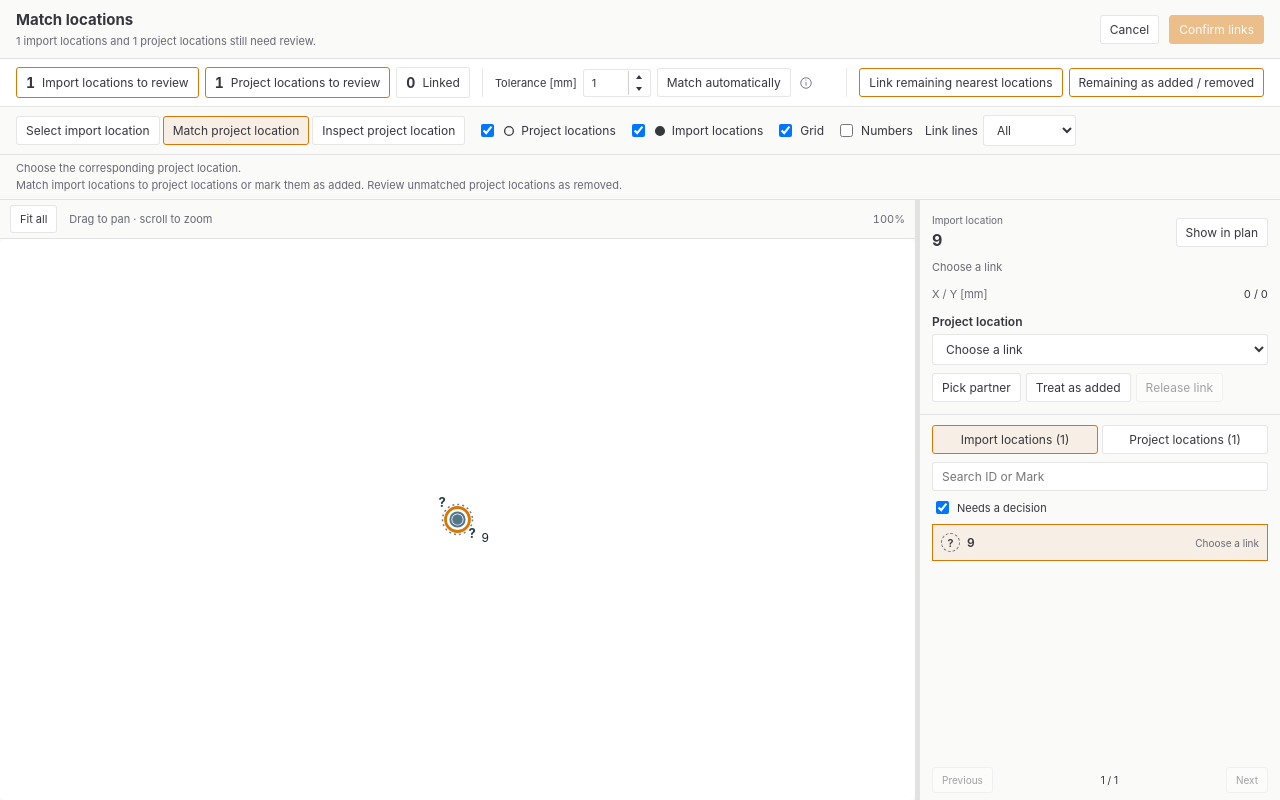
Test case: local undo and redo restore a validated mapping without invoking the core again
Select "1" in the dropdown labelled "Project location" at (1100, 350), box [932,334,1268,365]
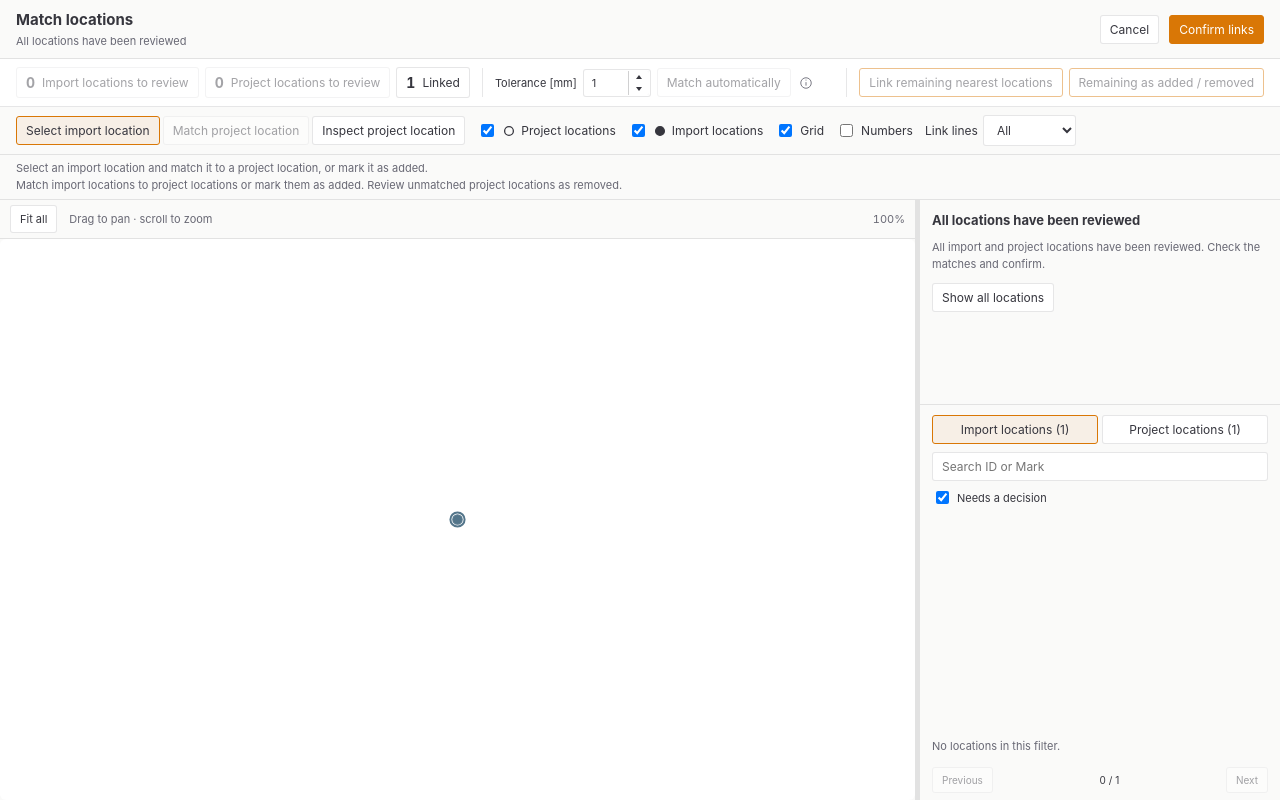
Result: the button "Confirm links" is enabled at [1169,14,1264,44]
Press z
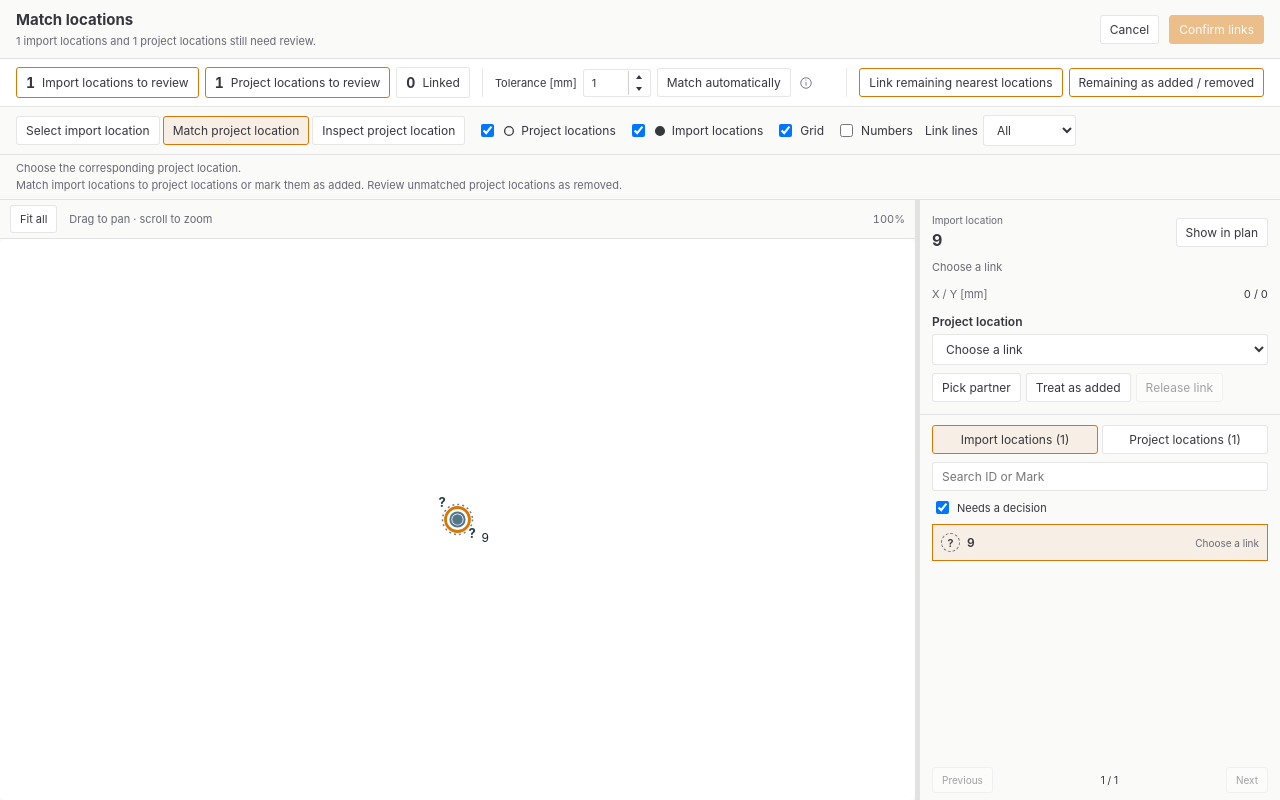
Result: the button "Confirm links" is disabled at [1169,14,1264,44]
Press y
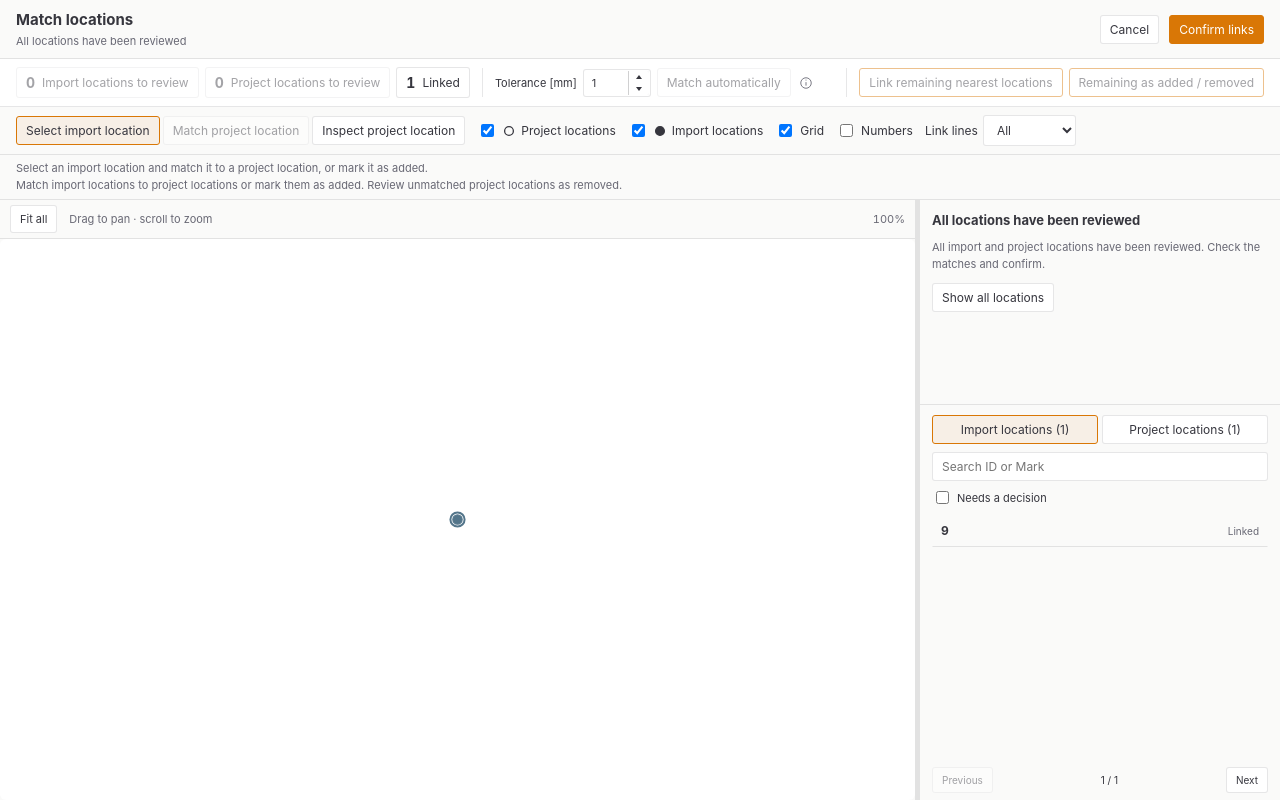
Result: the button "Confirm links" is enabled at [1169,14,1264,44]
